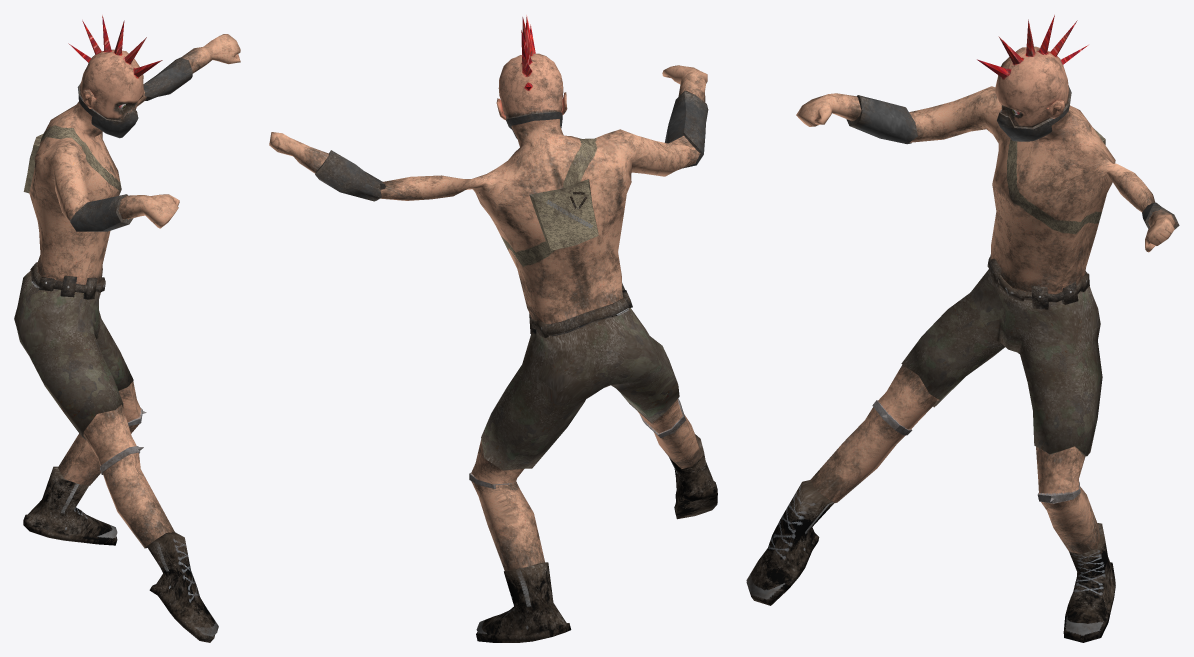
The model's file is Anim_arma_c_npc2.0026.obj.
The picture shows the model from 3 angles, left to right: view 1: azimuth 30°, elevation 25°; view 2: azimuth 150°, elevation 25°; view 3: azimuth 270°, elevation 25°; orthographic projection. The views are drawn at different scales.
Visible parts, largest first — view 1: polySurface1; view 2: polySurface1; view 3: polySurface1.
Part boxes in pixels (<box>): polySurface1: <box>14,15,240,642</box>; polySurface1: <box>269,15,717,642</box>; polySurface1: <box>746,15,1179,642</box>.
Size of the model in its own units: 5.24 by 9.63 by 6.13.
